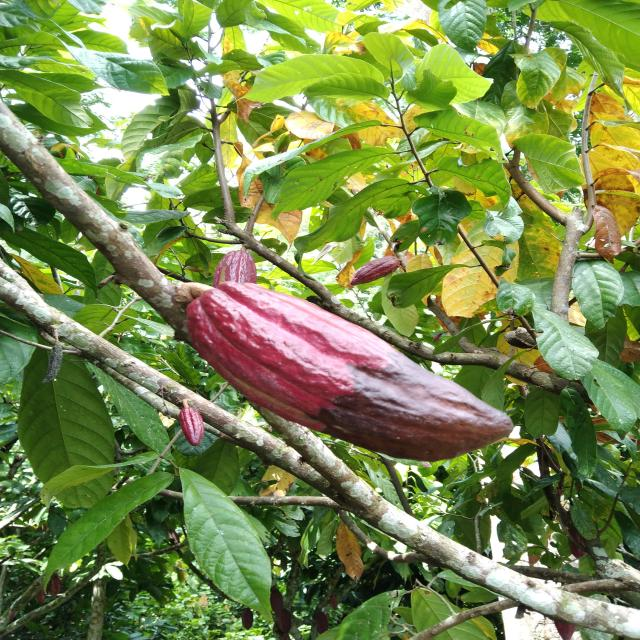Fitoftora: (176, 281, 517, 465)
Sana: (344, 251, 403, 289), (170, 402, 213, 447), (213, 250, 258, 286)
